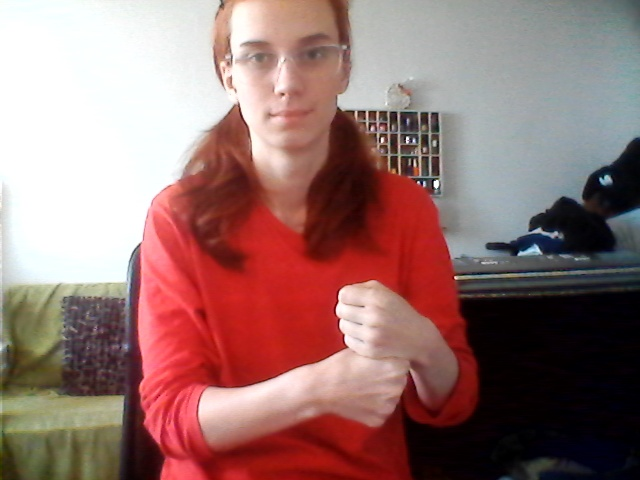g: (295, 266, 424, 439)
